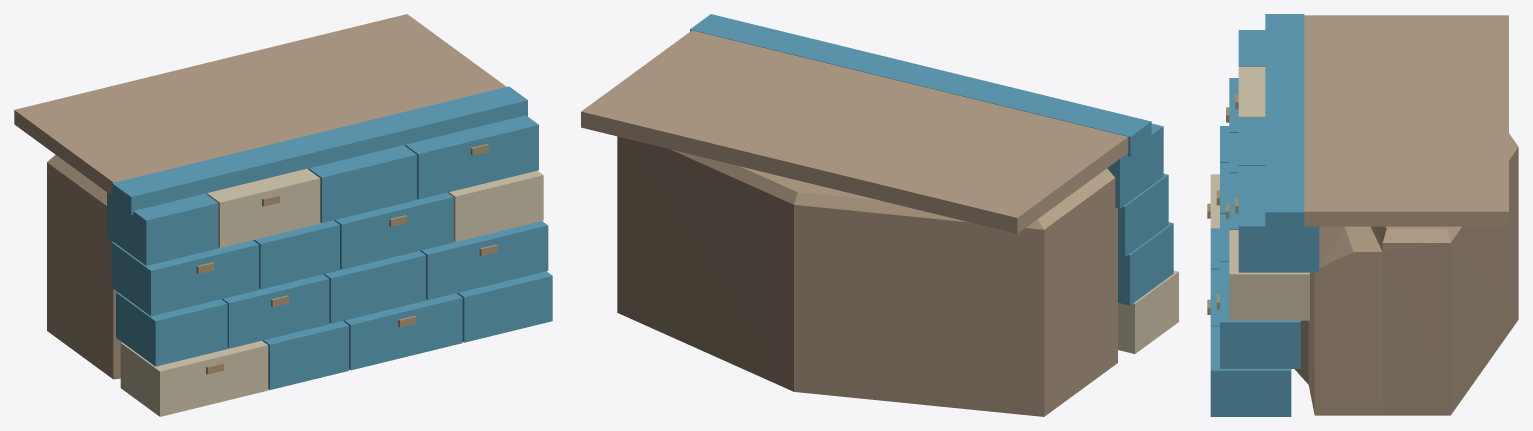
The model's file is terrace-wall-sky.glb.
The picture shows the model from 3 angles, left to right: view 1: azimuth 30°, elevation 25°; view 2: azimuth 150°, elevation 25°; view 3: azimuth 270°, elevation 25°; orthographic projection. The views are drawn at different scales.
Parts seen in each view (by area): view 1: terrace-wall-sky; view 2: terrace-wall-sky; view 3: terrace-wall-sky.
Boxes of the visible parts, x1,y1,x2,y2 form: terrace-wall-sky: (14, 14, 552, 416); terrace-wall-sky: (581, 14, 1178, 416); terrace-wall-sky: (1207, 14, 1518, 416).
Bounding box in the file's own units: 6.04 × 2.93 × 4.01.
